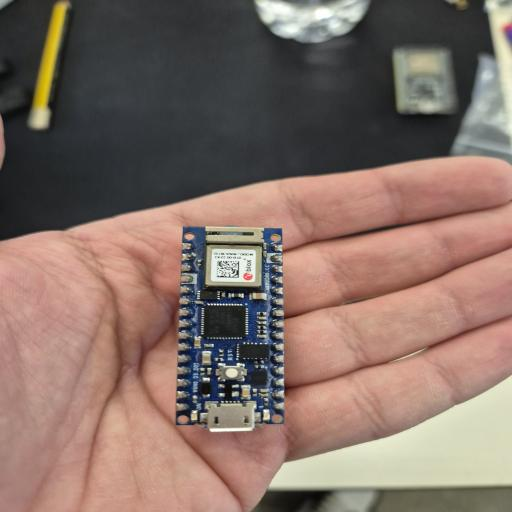arduino-nano-iot-33: (181, 223, 285, 426)
